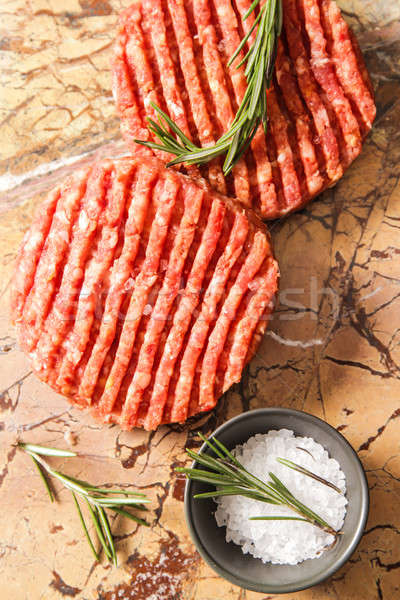ground_beef: (17, 159, 263, 381), (152, 18, 376, 241)
